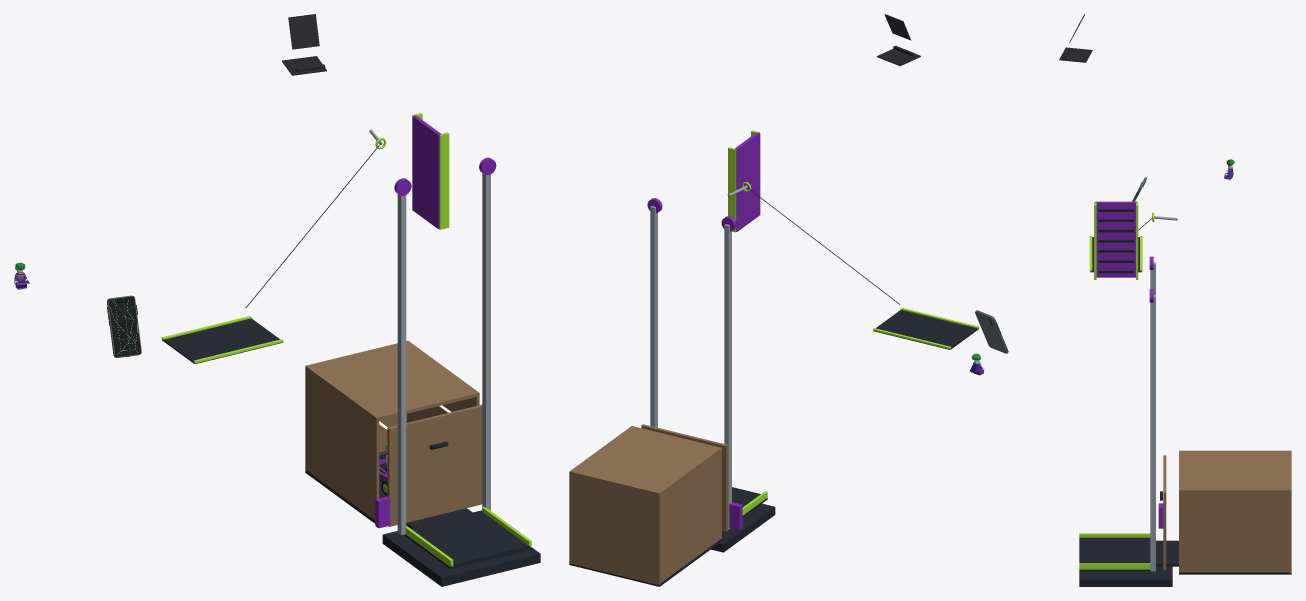
File: joker-adventure.glb
3 renders of one model, left to right at view 1: azimuth 30°, elevation 25°; view 2: azimuth 150°, elevation 25°; view 3: azimuth 270°, elevation 25°, orthographic. The views are drawn at different scales.
Visible parts, largest first — view 1: JA_Garage_false_front, JA_Garage_Side_L, JA_Garage_Roof, JA_Lift_platform, JA_Lift_rail_-1, JA_Lift_rail_1, JA_Lift_base, JA_Ramp_deck, JA_Landing_pad, int_phone__2, JA_Ramp_guard_-1, static_phone_stand_back (+1 smaller); view 2: JA_Garage_Back, JA_Garage_Roof, JA_Garage_Side_L, JA_Landing_pad, JA_Ramp_deck, JA_Lift_rail_-1, JA_Lift_rail_1, JA_Lift_base, JA_Garage_false_front, int_phone, JA_Ramp_guard_1; view 3: JA_Garage_Side_R, JA_Garage_Roof, JA_Ramp_deck, JA_Lift_platform, JA_Lift_rail_1, JA_Lift_base, JA_Garage_apron, JA_Lift, JA_Garage_false_front, JA_Lift_lip_-1, static_phone_stand, JA_Garage_Floor.
Part boxes in pixels (x1,y1,x2,y2): JA_Garage_false_front: [387, 404, 482, 526]; JA_Garage_Side_L: [305, 370, 379, 520]; JA_Garage_Roof: [305, 341, 479, 421]; JA_Lift_platform: [404, 511, 531, 569]; JA_Lift_rail_-1: [397, 194, 406, 535]; JA_Lift_rail_1: [482, 173, 490, 510]; JA_Lift_base: [382, 510, 540, 586]; JA_Ramp_deck: [412, 115, 441, 229]; JA_Landing_pad: [162, 318, 282, 363]; int_phone__2: [108, 296, 141, 357]; JA_Ramp_guard_-1: [439, 132, 449, 229]; static_phone_stand_back: [288, 14, 319, 49]; JA_Garage_Back: [569, 473, 660, 585]; JA_Garage_Roof: [569, 426, 721, 495]; JA_Garage_Side_L: [658, 451, 721, 582]; JA_Landing_pad: [873, 310, 978, 349]; JA_Ramp_deck: [735, 132, 760, 231]; JA_Lift_rail_-1: [724, 224, 731, 529]; JA_Lift_rail_1: [650, 206, 657, 427]; JA_Lift_base: [711, 503, 775, 552]; JA_Garage_false_front: [641, 424, 728, 531]; int_phone: [975, 310, 1008, 353]; JA_Ramp_guard_1: [728, 147, 736, 232]; JA_Garage_Side_R: [1179, 493, 1288, 572]; JA_Garage_Roof: [1179, 450, 1291, 492]; JA_Ramp_deck: [1095, 201, 1136, 277]; JA_Lift_platform: [1079, 537, 1150, 571]; JA_Lift_rail_1: [1150, 295, 1155, 571]; JA_Lift_base: [1079, 566, 1172, 586]; JA_Garage_apron: [1156, 540, 1178, 566]; JA_Lift: [1079, 563, 1150, 569]; JA_Garage_false_front: [1163, 455, 1166, 570]; JA_Lift_lip_-1: [1079, 533, 1150, 537]; static_phone_stand: [1059, 47, 1092, 62]; JA_Garage_Floor: [1179, 572, 1291, 574].
Size of the model in its own units: 1.23 by 1.63 by 0.7218.
Materials: 26 (1 with a texture image).
